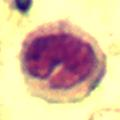neutrophil: (12, 21, 109, 102)
